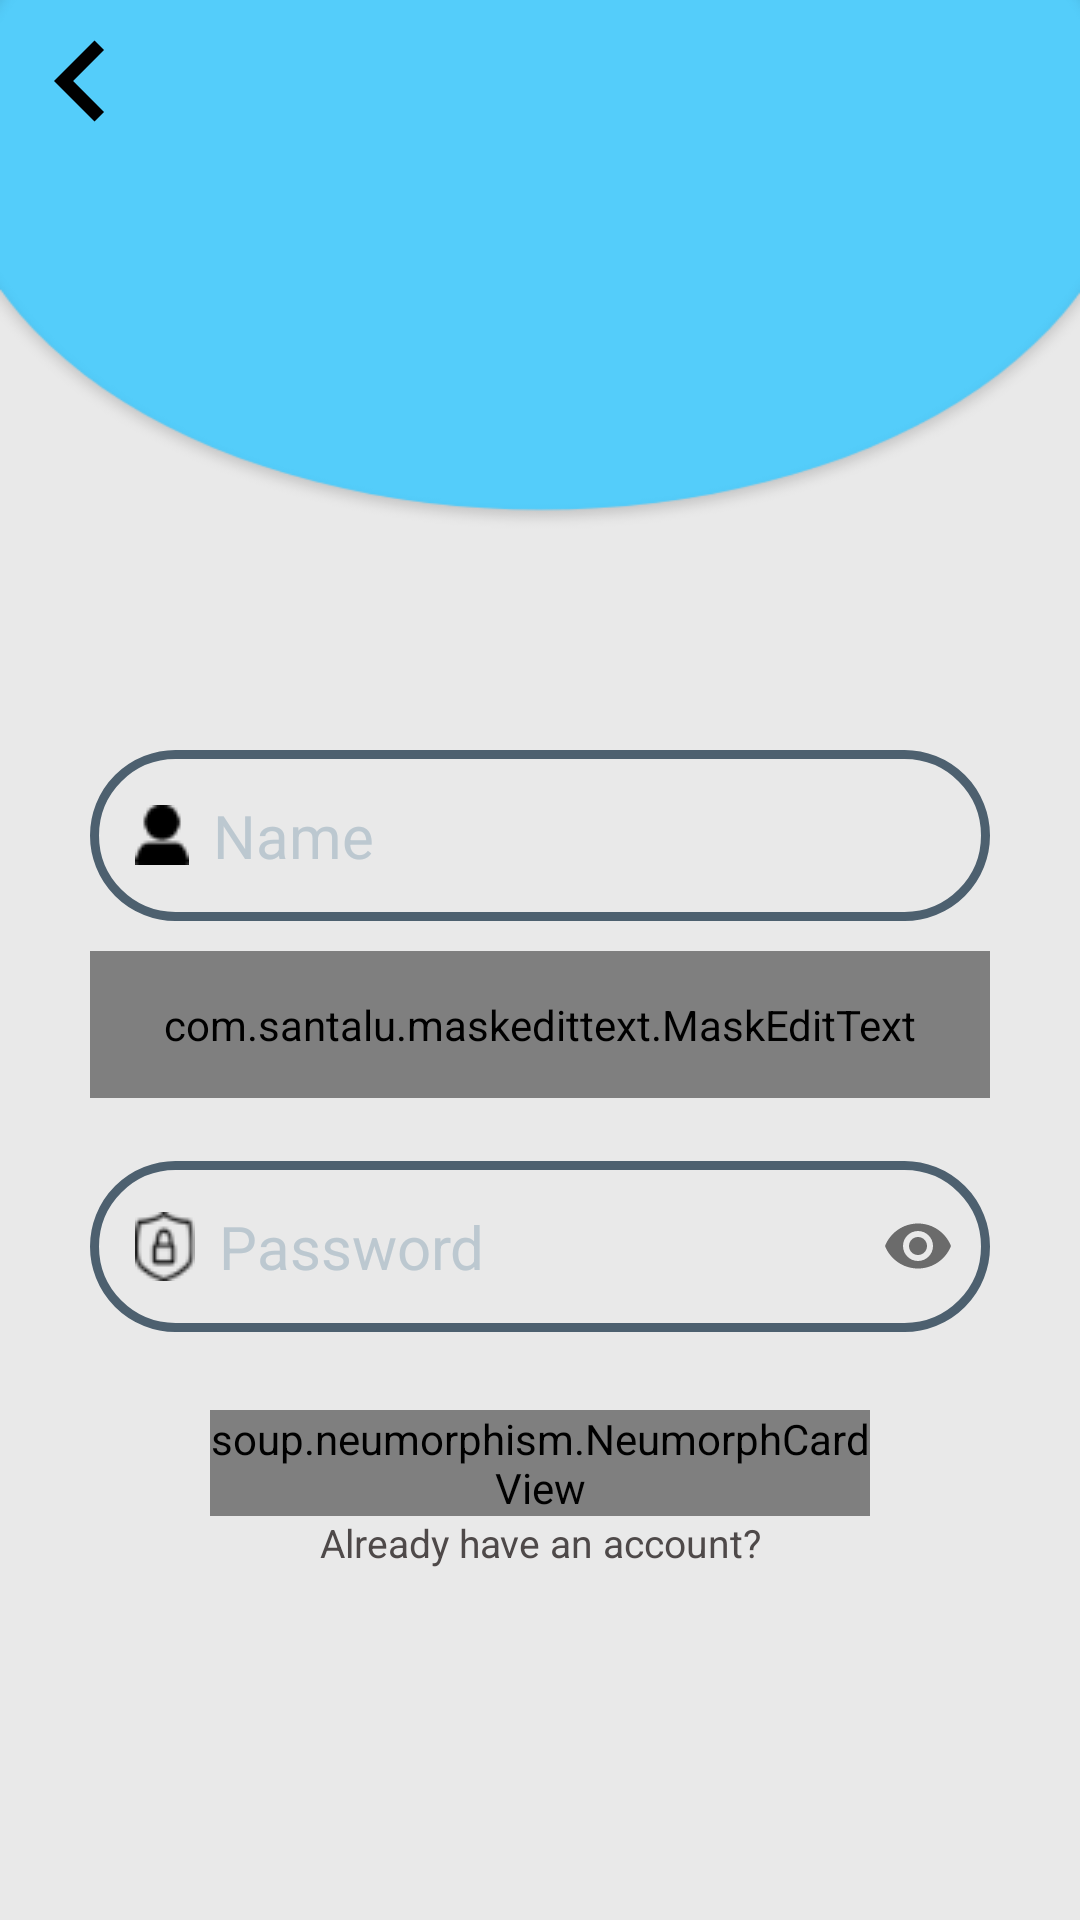

Named icons in this screenshot (1080px×1920px) and their centers, point (x, y):
keyboard arrow left: point (79, 81)
